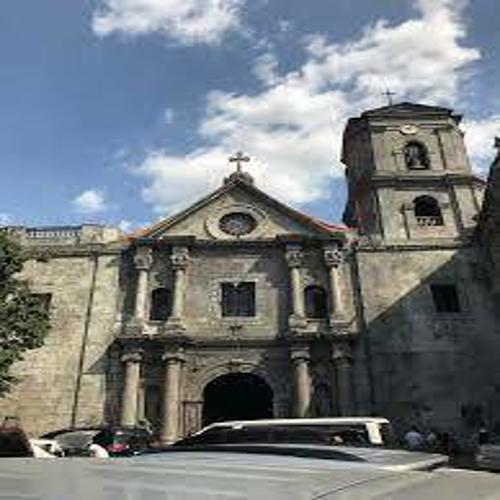San Agustin Church: (112, 81, 494, 485)
